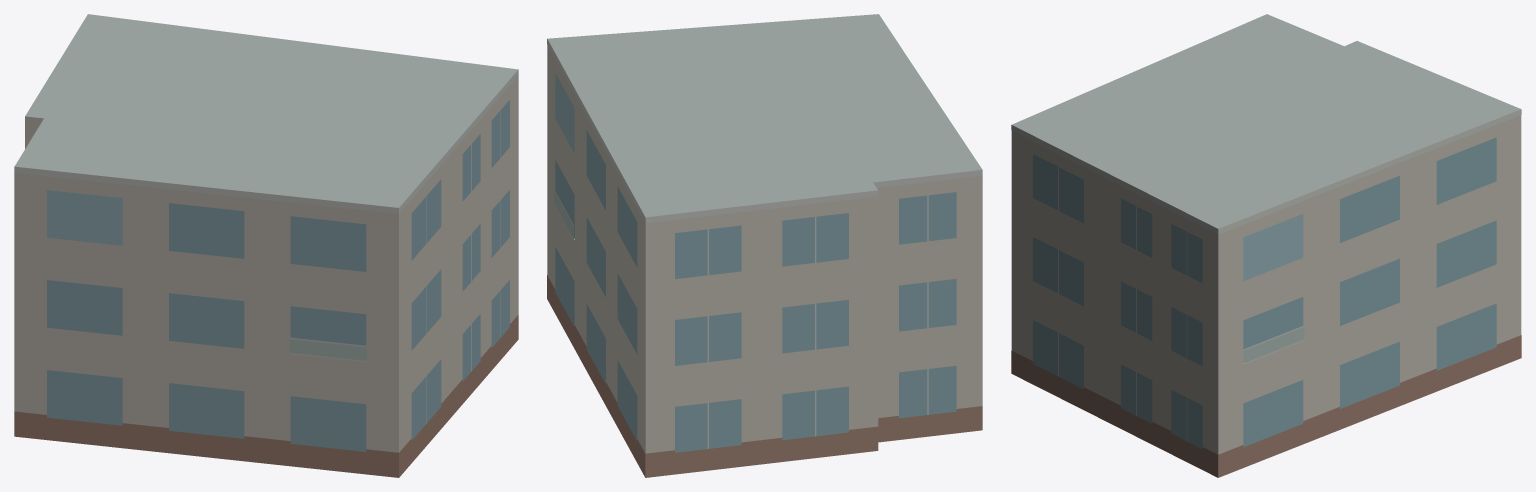
The model's file is survey-upis-33033285.glb.
3 views of the same model, side by side, from view 1: azimuth 30°, elevation 25°; view 2: azimuth 150°, elevation 25°; view 3: azimuth 270°, elevation 25° (orthographic). The views are drawn at different scales.
Visible parts, largest first — view 1: survey-upis-33033285.tmp; view 2: survey-upis-33033285.tmp; view 3: survey-upis-33033285.tmp.
Part boxes in pixels (<box>): survey-upis-33033285.tmp: <box>14,14,518,477</box>; survey-upis-33033285.tmp: <box>547,14,982,477</box>; survey-upis-33033285.tmp: <box>1011,14,1521,477</box>.
Size of the model in its own units: 19.78 by 10.68 by 19.83.
